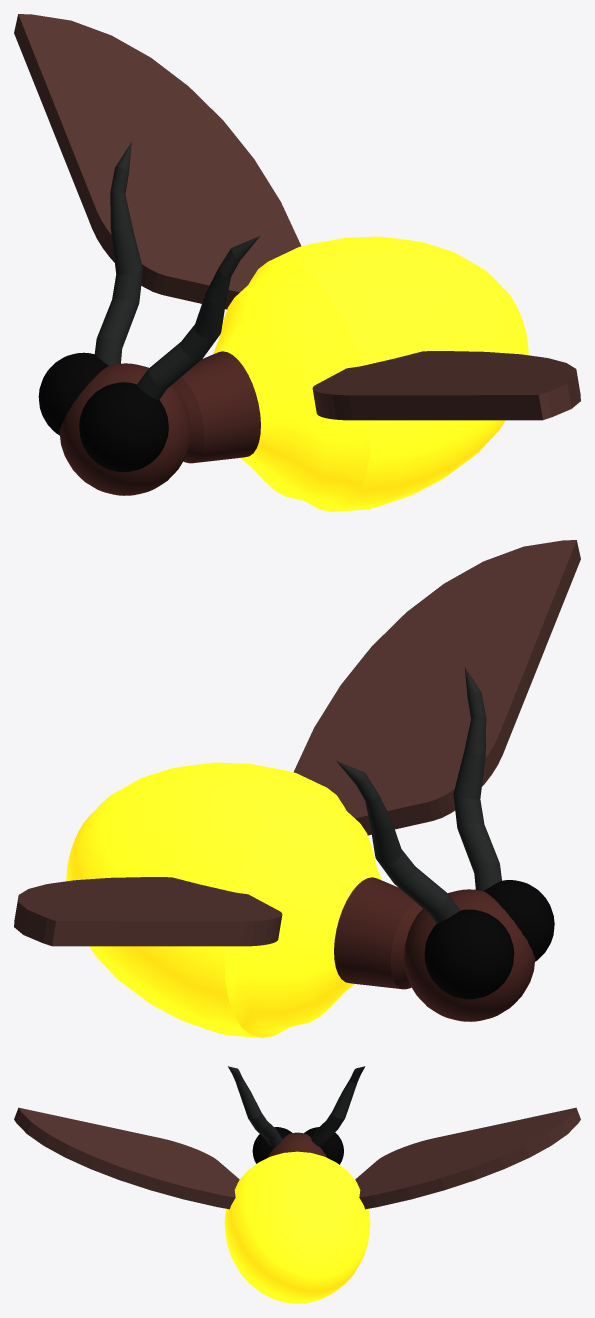
The model's file is FireFly.fbx.
3 views of the same model, one above another, from view 1: azimuth 30°, elevation 25°; view 2: azimuth 150°, elevation 25°; view 3: azimuth 270°, elevation 25° (orthographic). The views are drawn at different scales.
Visible parts, largest first — view 1: Sphere, Cube.001, Cube, Sphere.004, Sphere.001, Sphere.002, Cylinder.001, Cylinder, Sphere.003; view 2: Sphere, Cube, Cube.001, Sphere.004, Sphere.001, Sphere.003, Cylinder, Cylinder.001, Sphere.002; view 3: Sphere, Cube, Cube.001, Cylinder, Cylinder.001, Sphere.001, Sphere.003, Sphere.002.
Boxes of the visible parts, x1,y1,x2,y2 form: Sphere: [213, 236, 528, 511]; Cube.001: [14, 14, 300, 309]; Cube: [312, 351, 580, 420]; Sphere.004: [173, 351, 260, 463]; Sphere.001: [59, 363, 190, 495]; Sphere.002: [79, 382, 168, 471]; Cylinder.001: [94, 142, 142, 365]; Cylinder: [137, 236, 259, 400]; Sphere.003: [38, 352, 108, 435]; Sphere: [66, 762, 381, 1037]; Cube: [294, 540, 580, 835]; Cube.001: [14, 877, 282, 946]; Sphere.004: [334, 877, 422, 989]; Sphere.001: [404, 889, 535, 1021]; Sphere.003: [424, 909, 514, 999]; Cylinder: [453, 667, 501, 890]; Cylinder.001: [336, 761, 459, 923]; Sphere.002: [483, 880, 554, 961]; Sphere: [224, 1151, 370, 1303]; Cube: [14, 1107, 239, 1209]; Cube.001: [355, 1107, 580, 1209]; Cylinder: [228, 1066, 282, 1146]; Cylinder.001: [311, 1066, 365, 1146]; Sphere.001: [267, 1132, 327, 1157]; Sphere.003: [304, 1127, 343, 1164]; Sphere.002: [252, 1127, 291, 1163].
Bounding box in the file's own units: 423 × 311 × 860.
